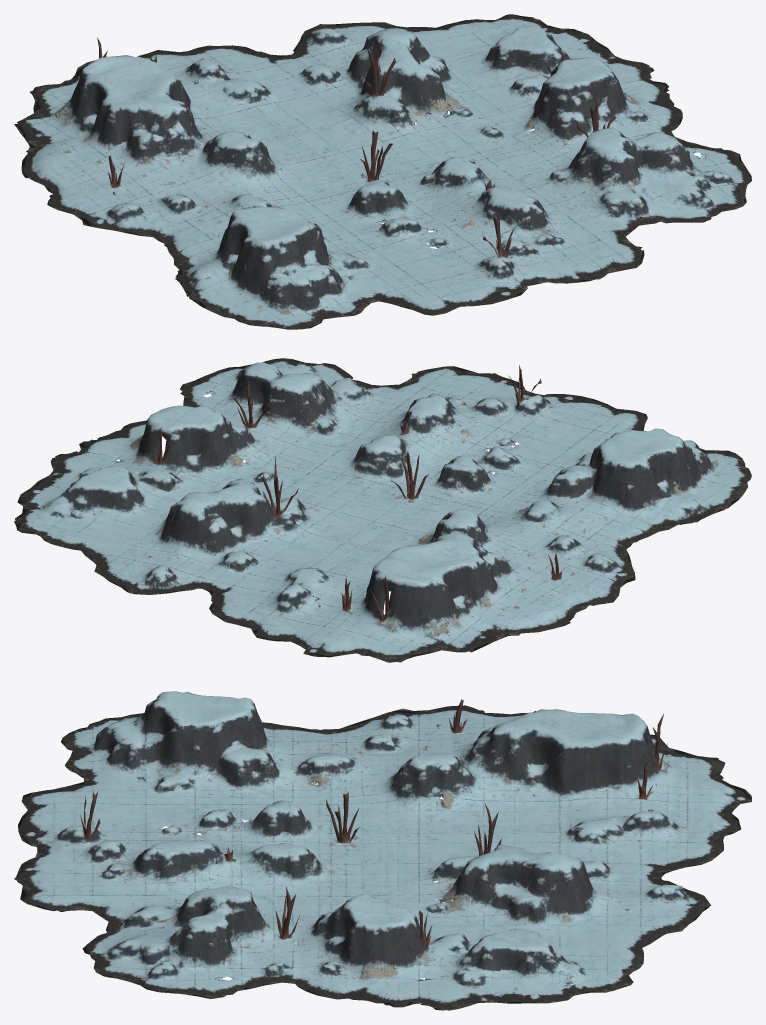
The model's file is snow-ground-5.glb.
3 views of the same model, one above another, from view 1: azimuth 30°, elevation 25°; view 2: azimuth 150°, elevation 25°; view 3: azimuth 270°, elevation 25° (orthographic). The views are drawn at different scales.
Parts seen in each view (by area): view 1: geometry_0; view 2: geometry_0; view 3: geometry_0.
Part boxes in pixels (box(x1,y1,x2,y2)): geometry_0: box(14, 14, 751, 329); geometry_0: box(14, 358, 751, 662); geometry_0: box(14, 691, 751, 1010).
Bounding box in the file's own units: 0.9613 × 0.1204 × 0.9822.
Materials: 1 (1 with a texture image).
